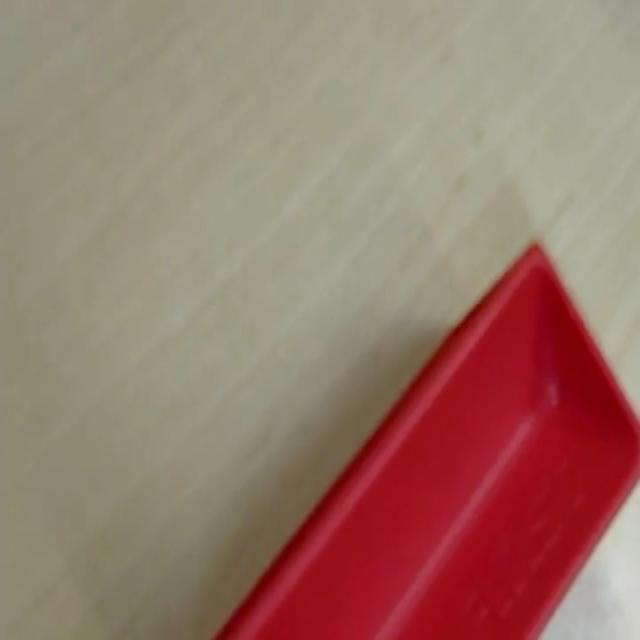red_block: (211, 239, 638, 637)
